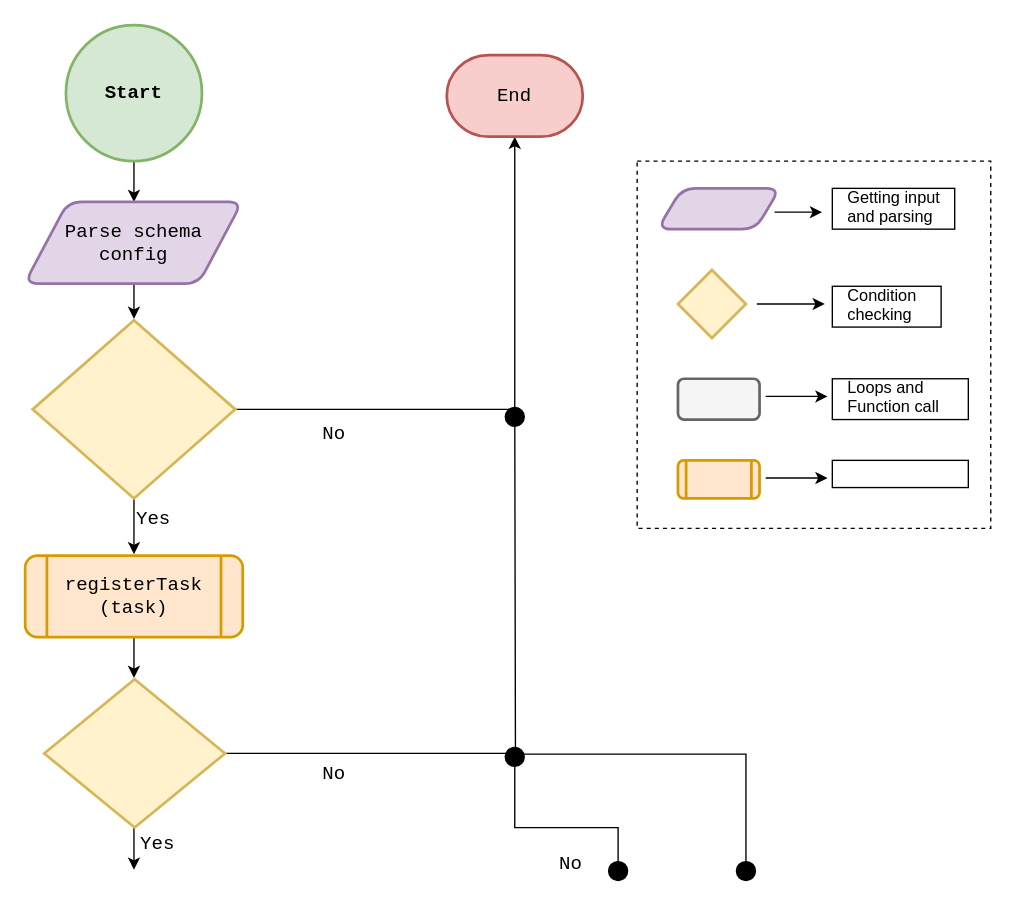
Image size: 1015x918. Some labels were removed from this diagram. Here are the shapes that lost their labels. From the top down, the box of each, then its label:
(31, 318, 236, 499): is task config available ?
(831, 459, 968, 488): Sub task
(42, 677, 226, 828): registration success?
